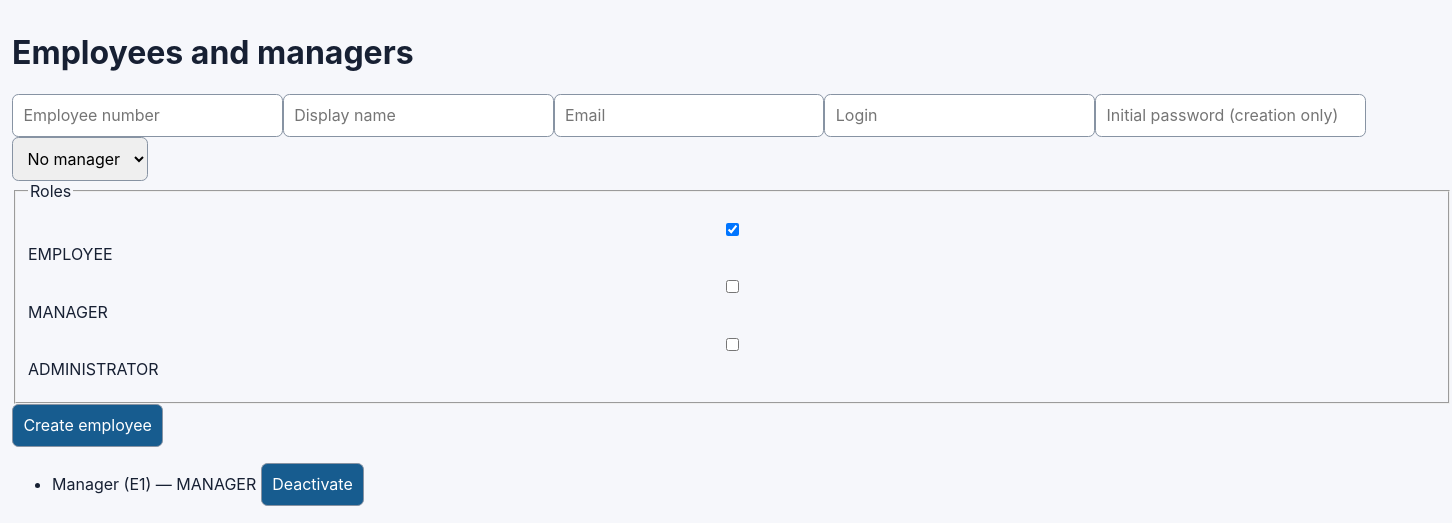
Test case: handles stale configuration responses without exposing credentials
Expected: the heading "Employees and managers" is shown, [12,33,414,72]
What coordinates should you click on to do the following:
click the button "Deactivate"
I would click on:
 (312, 484)
Its box is [261,463,364,506].
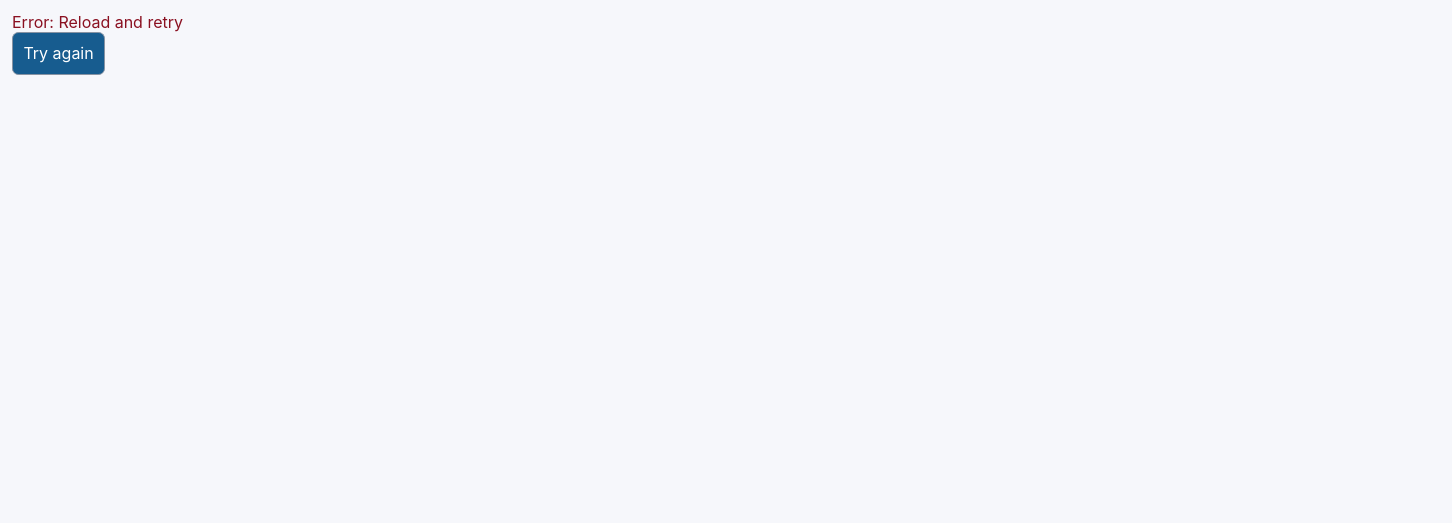
Now the message shows "Reload and retry", box [12,12,183,32]
Now the button "Try again" is shown, box [12,32,105,75]
